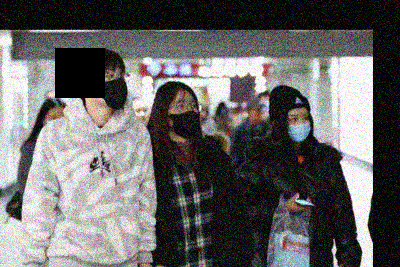with_mask: (91, 69, 129, 109), (169, 97, 199, 139), (288, 110, 310, 142)
without_mask: (133, 107, 150, 127)
